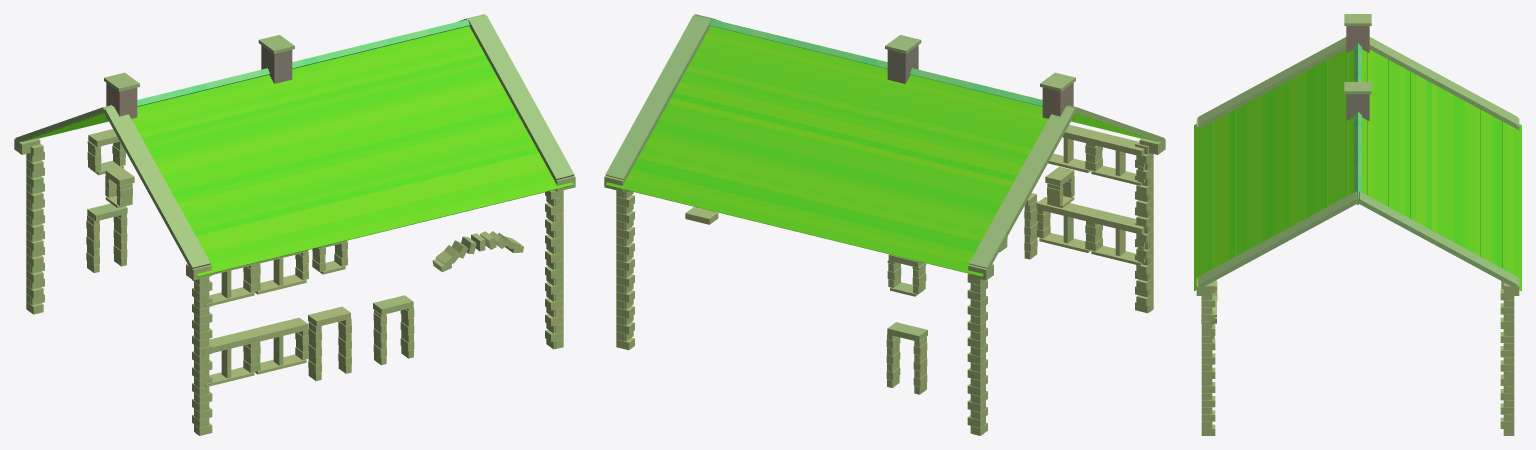
File: SM_Bld_077_Stone.glb
3 views of the same model, side by side, from view 1: azimuth 30°, elevation 25°; view 2: azimuth 150°, elevation 25°; view 3: azimuth 270°, elevation 25° (orthographic). The views are drawn at different scales.
Parts seen in each view (by area): view 1: SM_Bld_077_Stone; view 2: SM_Bld_077_Stone; view 3: SM_Bld_077_Stone.
Boxes of the visible parts, bbox=[...] form: SM_Bld_077_Stone: bbox=[14, 14, 575, 435]; SM_Bld_077_Stone: bbox=[604, 14, 1165, 435]; SM_Bld_077_Stone: bbox=[1194, 14, 1521, 435].
Bounding box in the file's own units: 15.13 × 10.97 × 12.48.
